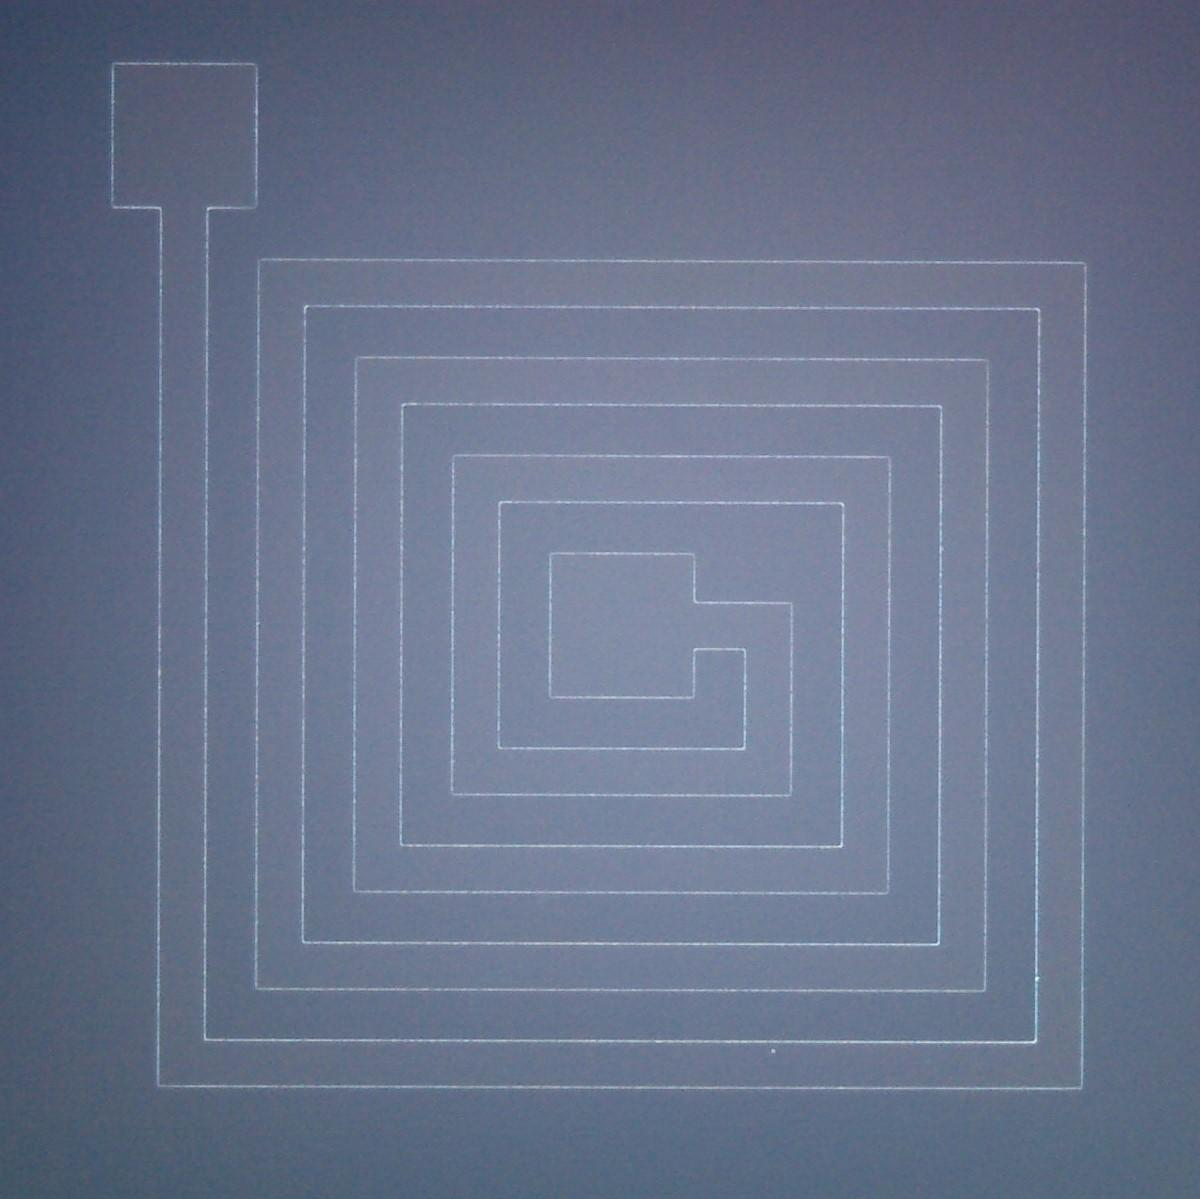s_point: (765, 1045, 782, 1060), (1032, 974, 1044, 985)
